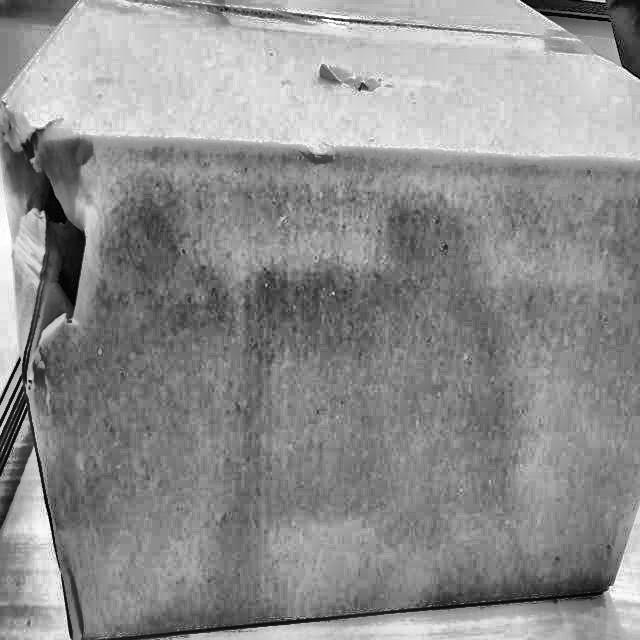box: (0, 0, 639, 639)
hole: (6, 129, 94, 372)
